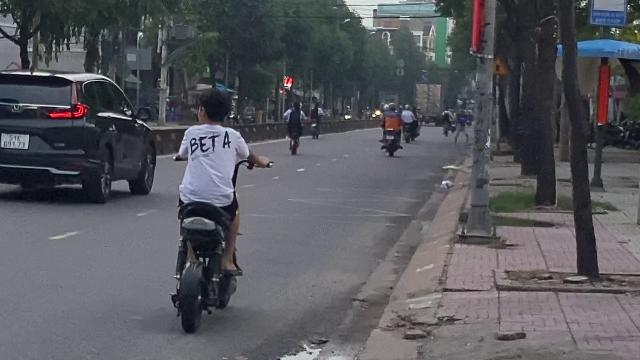motorcyclist: (165, 85, 257, 330)
nohelmet: (195, 86, 233, 124)
